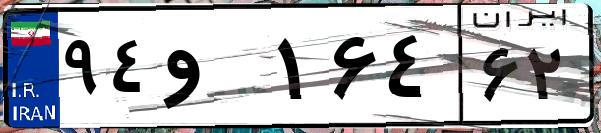1: (270, 28, 330, 110)
2: (525, 38, 570, 115)
4: (385, 28, 445, 110), (110, 28, 158, 98)
6: (330, 28, 385, 110), (475, 38, 525, 113)
9: (57, 26, 110, 100)
و: (158, 20, 270, 120)
